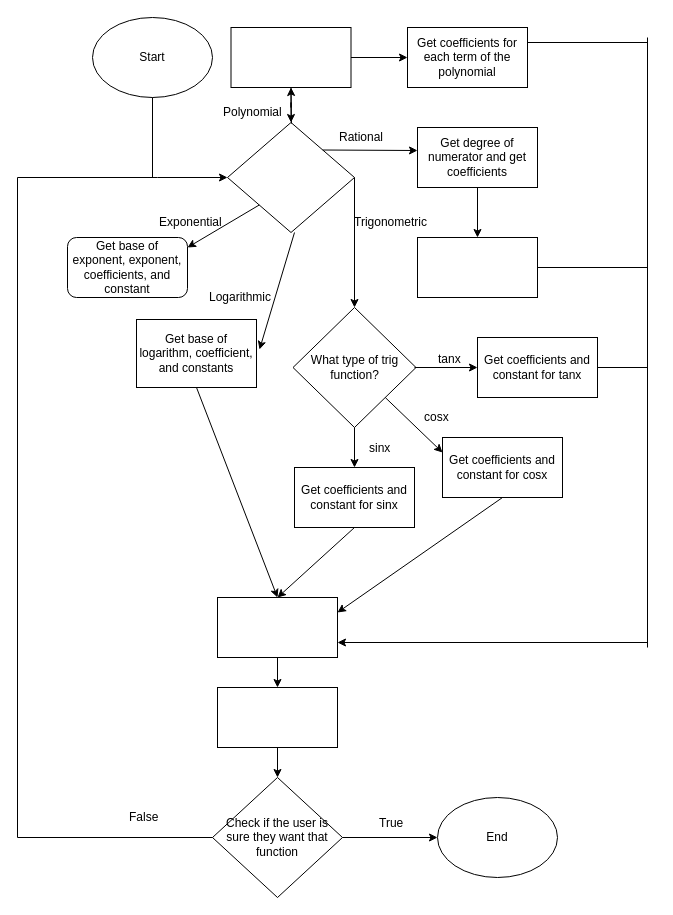
Some shapes in this 673 by 915 pixel diagram are drawn without their labels. The shapes that lost their labels are listed below. From the top down, each one's centre as x and y in pixels, then its label:
At (290,57): "Get degree of polynomial function".
At (290,177): "What type of function??".
At (477,267): "Get degree of denominator and coefficients".
At (277,627): "Process the function by inputting arbitrary x values to get y values".
At (277,717): "Output coordinates to a file".
